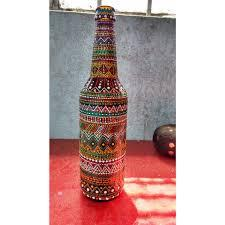Glass bottle: (62, 0, 141, 205)
